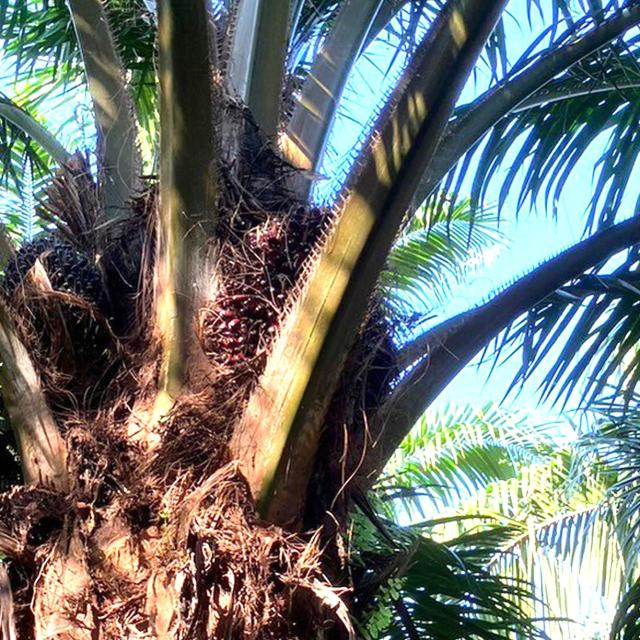ripe: (202, 207, 304, 369)
